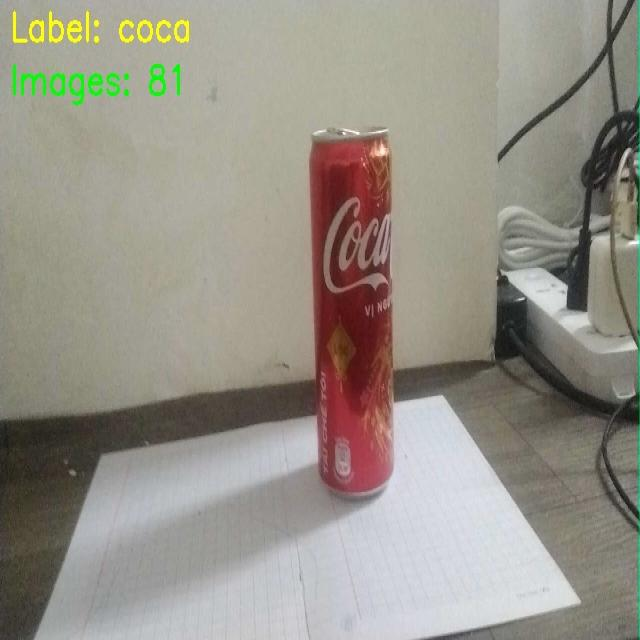Coca: (297, 115, 442, 525)
